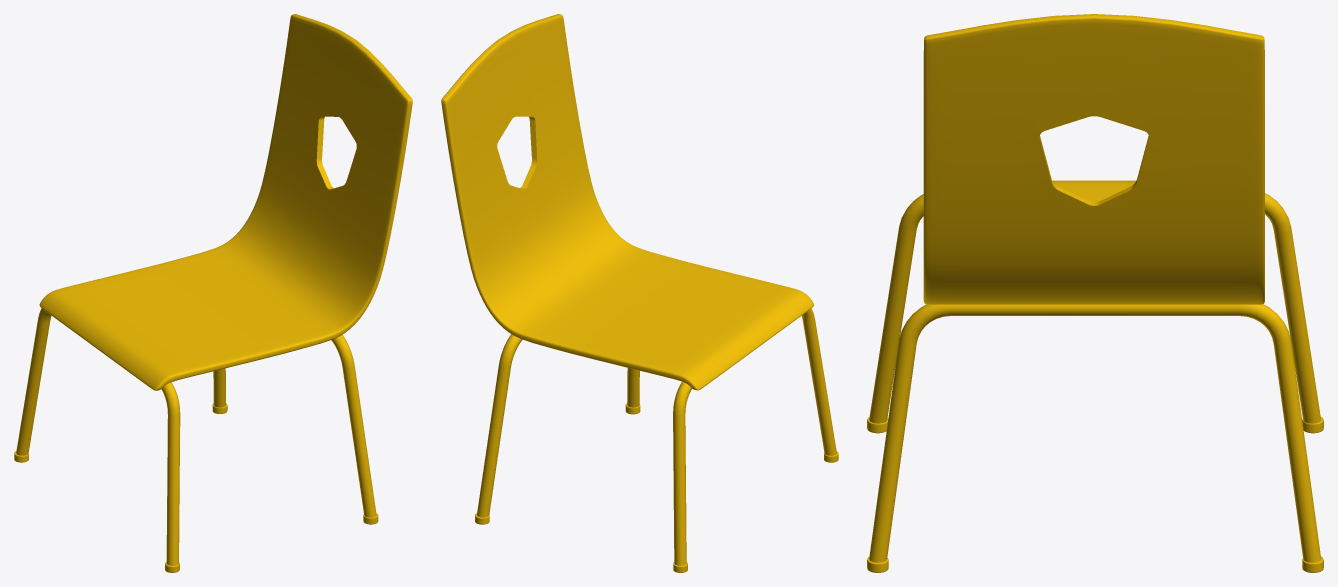
File: Datsun_FBX.FBX
3 renders of one model, left to right at view 1: azimuth 30°, elevation 25°; view 2: azimuth 150°, elevation 25°; view 3: azimuth 270°, elevation 25°, orthographic. The views are drawn at different scales.
Parts seen in each view (by area): view 1: Plane001, Line002, Line004; view 2: Plane001, Line002, Line004; view 3: Plane001, Line004, Line002.
Boxes of the visible parts, x1,y1,x2,y2 form: Plane001: (39, 14, 412, 390); Line002: (16, 308, 180, 565); Line004: (213, 334, 376, 517); Plane001: (441, 14, 813, 390); Line002: (673, 308, 836, 565); Line004: (477, 334, 639, 517); Plane001: (923, 14, 1264, 304); Line004: (869, 304, 1321, 562); Line002: (869, 193, 1320, 423).
Bounding box in the file's own units: 11.71 × 17.32 × 12.06.
